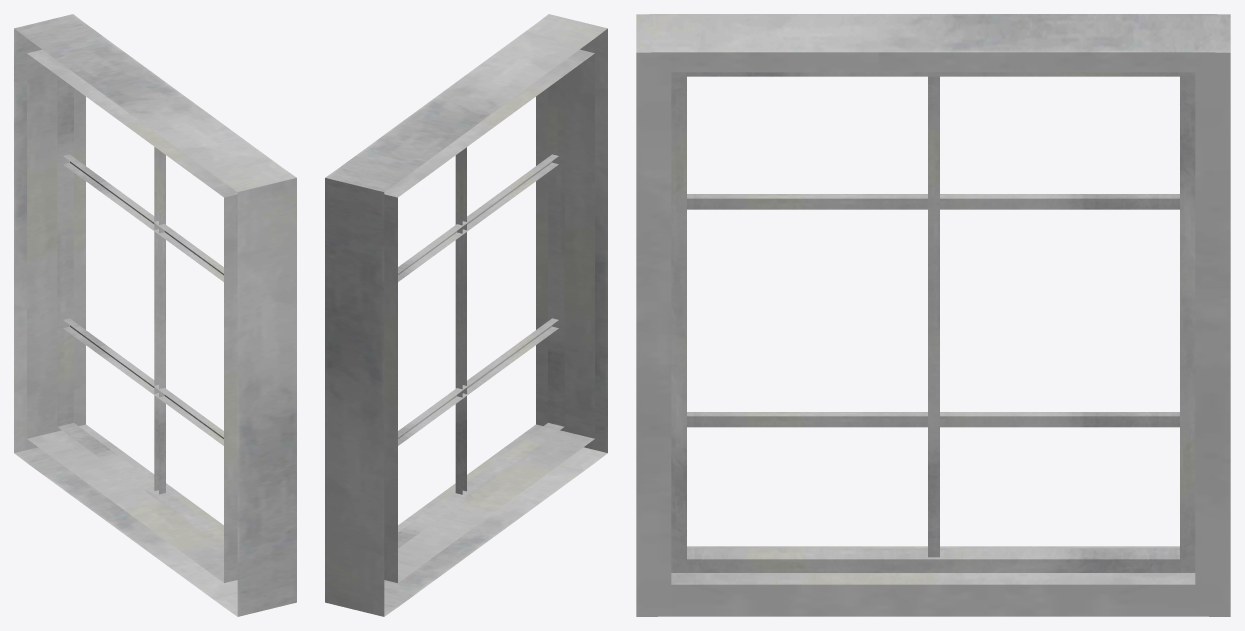
File: window_wall02.FBX
3 views of the same model, side by side, from view 1: azimuth 30°, elevation 25°; view 2: azimuth 150°, elevation 25°; view 3: azimuth 270°, elevation 25° (orthographic). The views are drawn at different scales.
Parts seen in each view (by area): view 1: window_wall02, window02; view 2: window_wall02, window02; view 3: window_wall02, window02.
Boxes of the visible parts, x1,y1,x2,y2 form: window_wall02: (14, 14, 296, 616); window02: (57, 76, 223, 548); window_wall02: (325, 14, 607, 616); window02: (398, 76, 564, 548); window_wall02: (636, 14, 1230, 616); window02: (671, 72, 1195, 572).
Bounding box in the file's own units: 23.67 × 161 × 154.
1 material, 1 textured.
